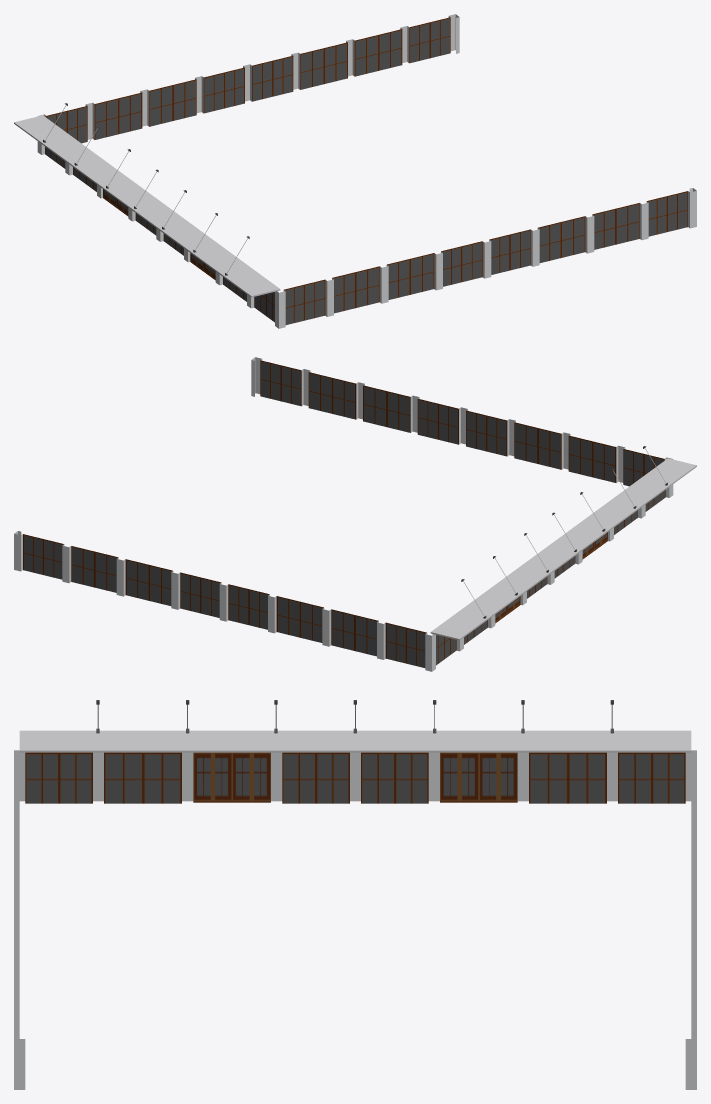
Rendered from BuildingBig5_1.fbx.
The picture shows the model from 3 angles, top to bottom: view 1: azimuth 30°, elevation 25°; view 2: azimuth 150°, elevation 25°; view 3: azimuth 270°, elevation 25°; orthographic projection. The views are drawn at different scales.
Parts seen in each view (by area): view 1: BuildingBig5_1; view 2: BuildingBig5_1; view 3: BuildingBig5_1.
Boxes of the visible parts, x1,y1,x2,y2 form: BuildingBig5_1: (14, 14, 696, 328); BuildingBig5_1: (14, 357, 696, 671); BuildingBig5_1: (14, 700, 696, 1089).
Size of the model in its own units: 6430 by 978 by 6060.
